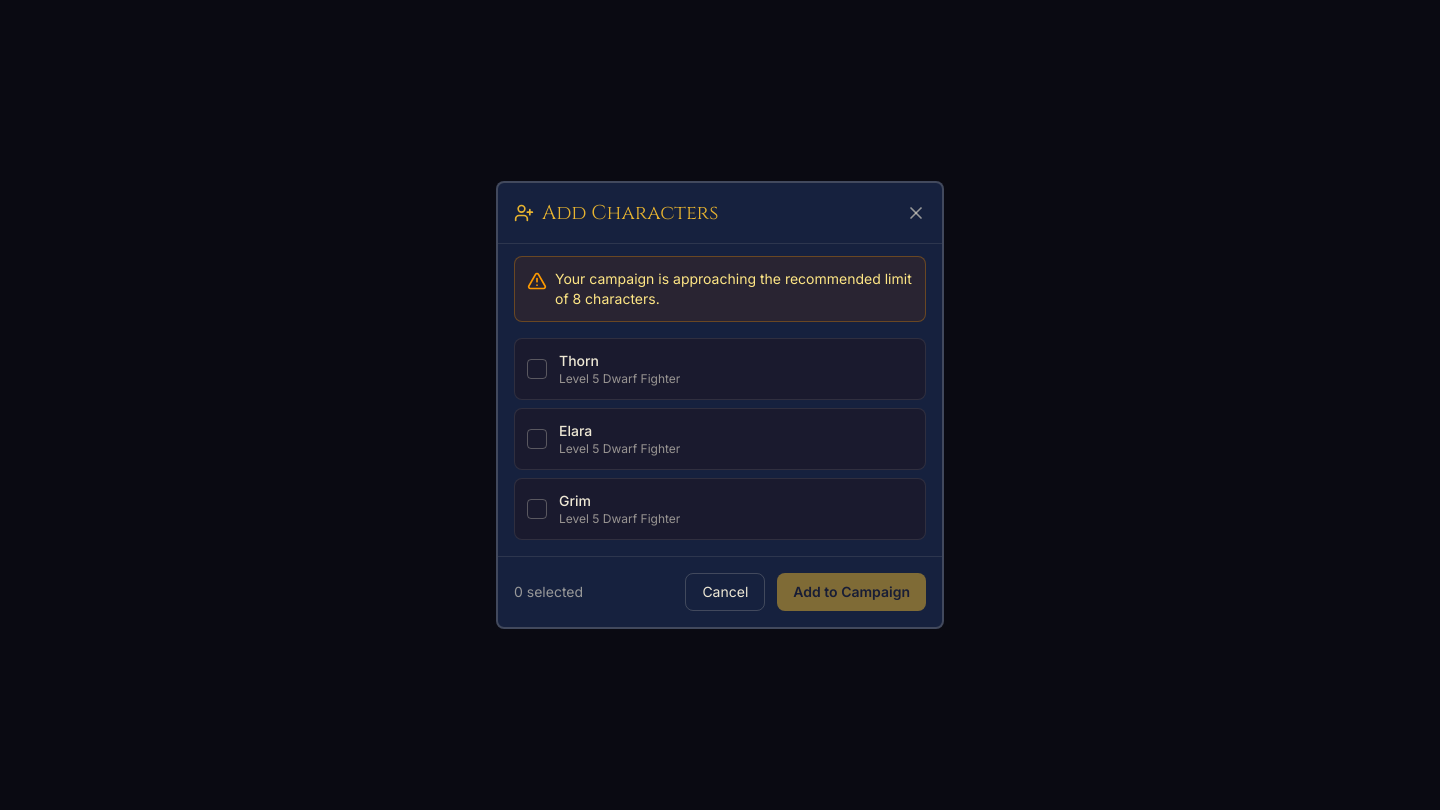
Test case: CharacterPicker › shows cap exceeded warning
This screenshot has width=1440, height=810.
Click the text "Thorn".
click(579, 360)  # box [559,352,599,369]
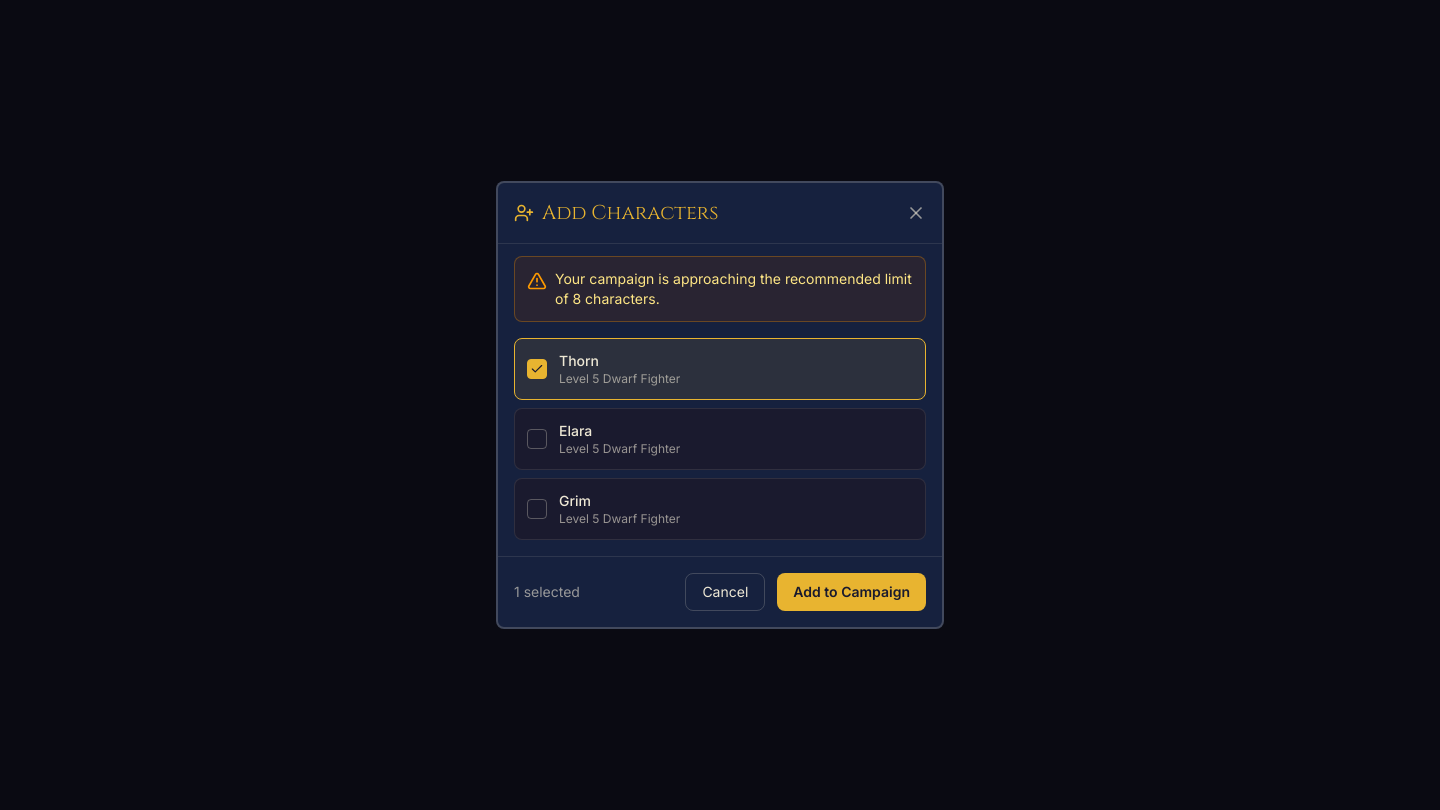
Click the text "Elara".
click(576, 430)  # box [559,422,592,439]
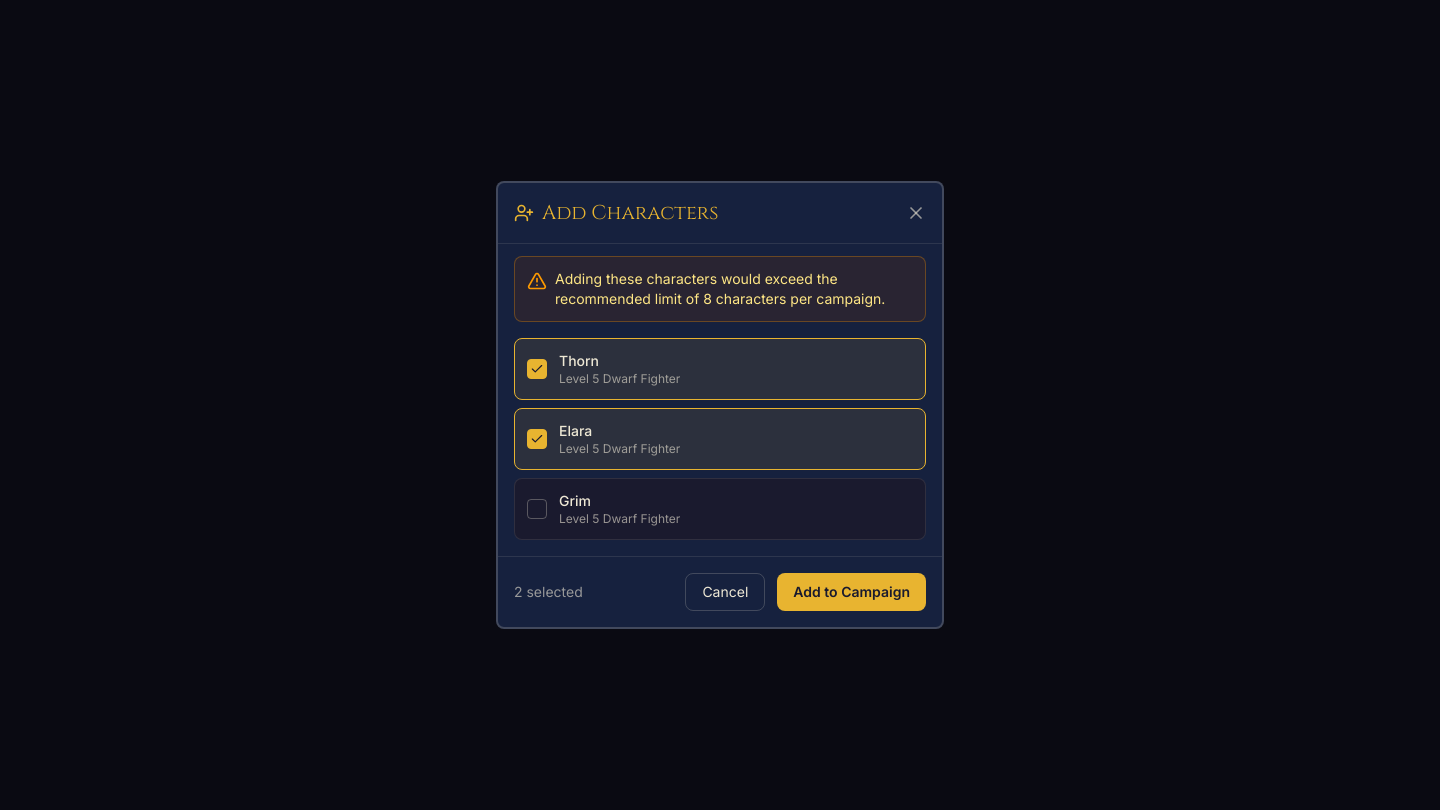
expect the text "would exceed the recommended limit" is shown: met, box [555,270,885,307]
